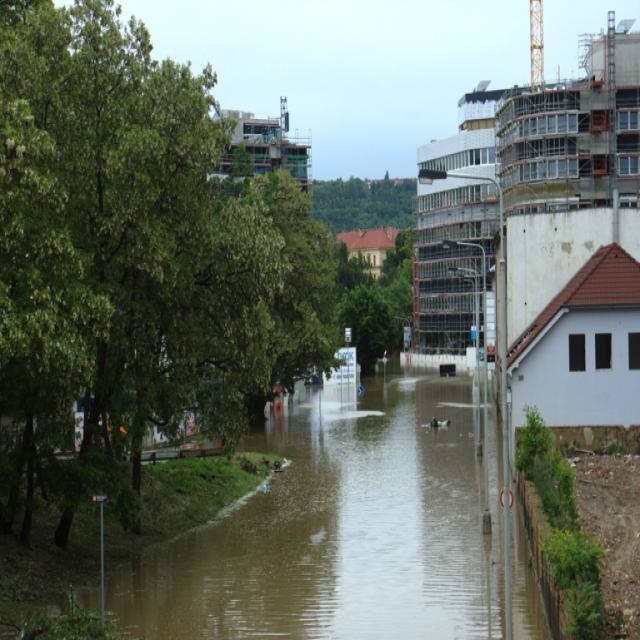flood: (109, 374, 502, 640)
house: (415, 32, 640, 354), (503, 238, 640, 424), (228, 92, 316, 178), (338, 230, 402, 274)
